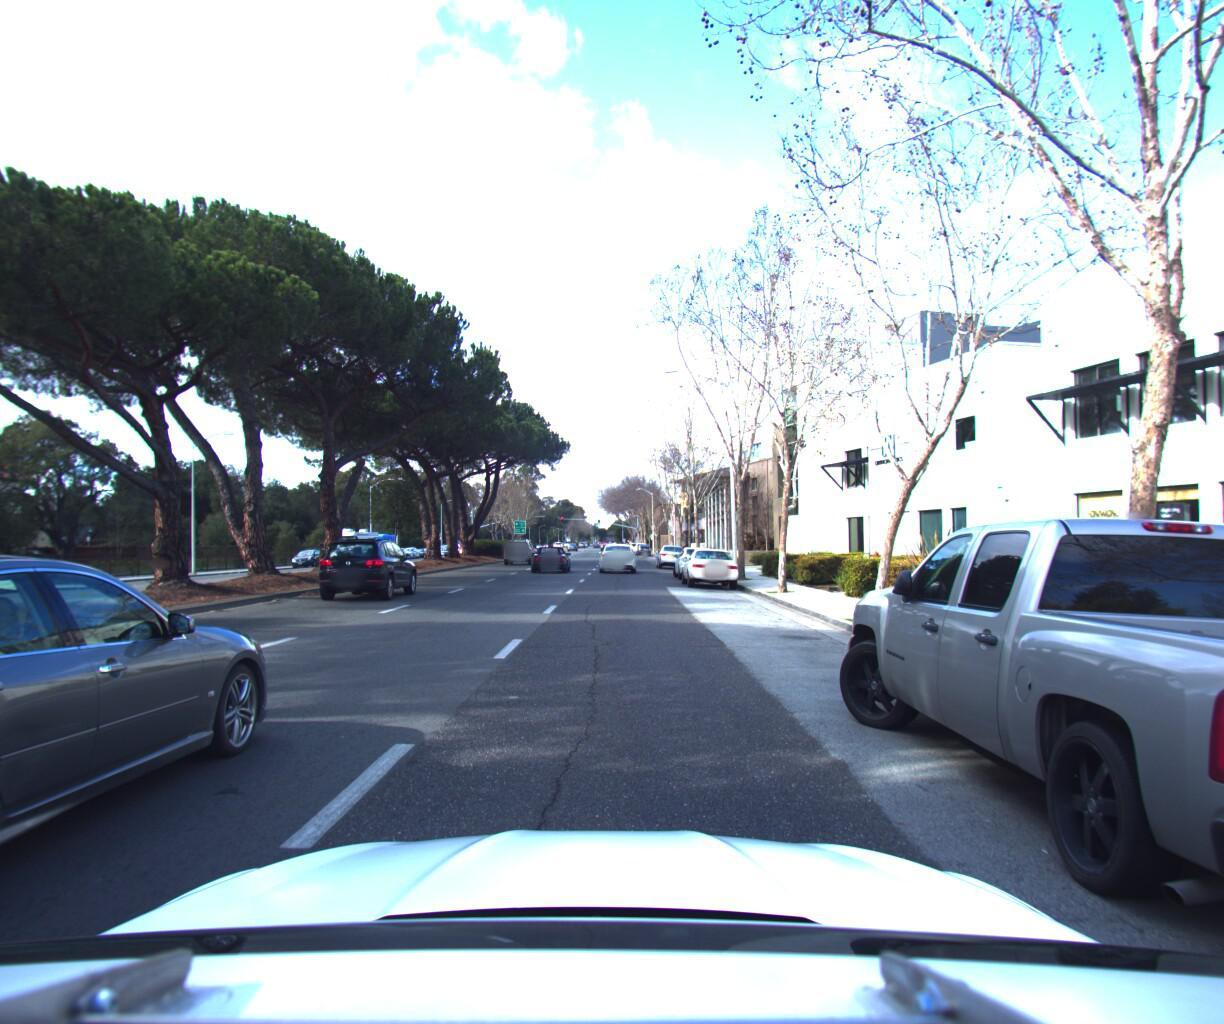car: (836, 483, 1224, 1024), (0, 515, 297, 1024), (313, 530, 427, 595), (0, 550, 72, 590), (682, 539, 743, 582), (673, 537, 725, 576), (530, 535, 573, 565), (597, 535, 634, 567), (503, 529, 538, 556), (658, 536, 691, 563), (293, 541, 332, 561), (0, 548, 9, 613)
other_vehicle: (324, 517, 385, 557)
